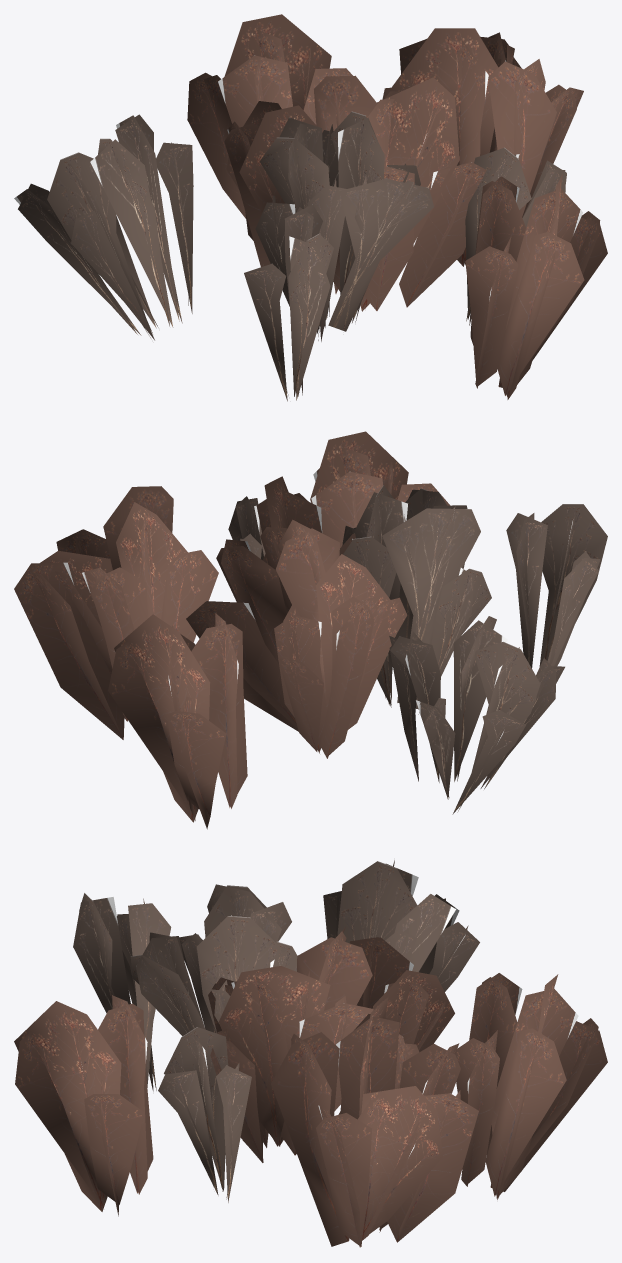
The model's file is Grass_patch_5.fbx.
The picture shows the model from 3 angles, top to bottom: view 1: azimuth 30°, elevation 25°; view 2: azimuth 150°, elevation 25°; view 3: azimuth 270°, elevation 25°; orthographic projection.
Visible parts, largest first — view 1: Grass_Patch_4; view 2: Grass_Patch_4; view 3: Grass_Patch_4.
Boxes of the visible parts, x1,y1,x2,y2 form: Grass_Patch_4: (14,14,607,401); Grass_Patch_4: (14,431,607,829); Grass_Patch_4: (14,860,607,1247).
Bounding box in the file's own units: 2.62 × 1.24 × 2.58.
